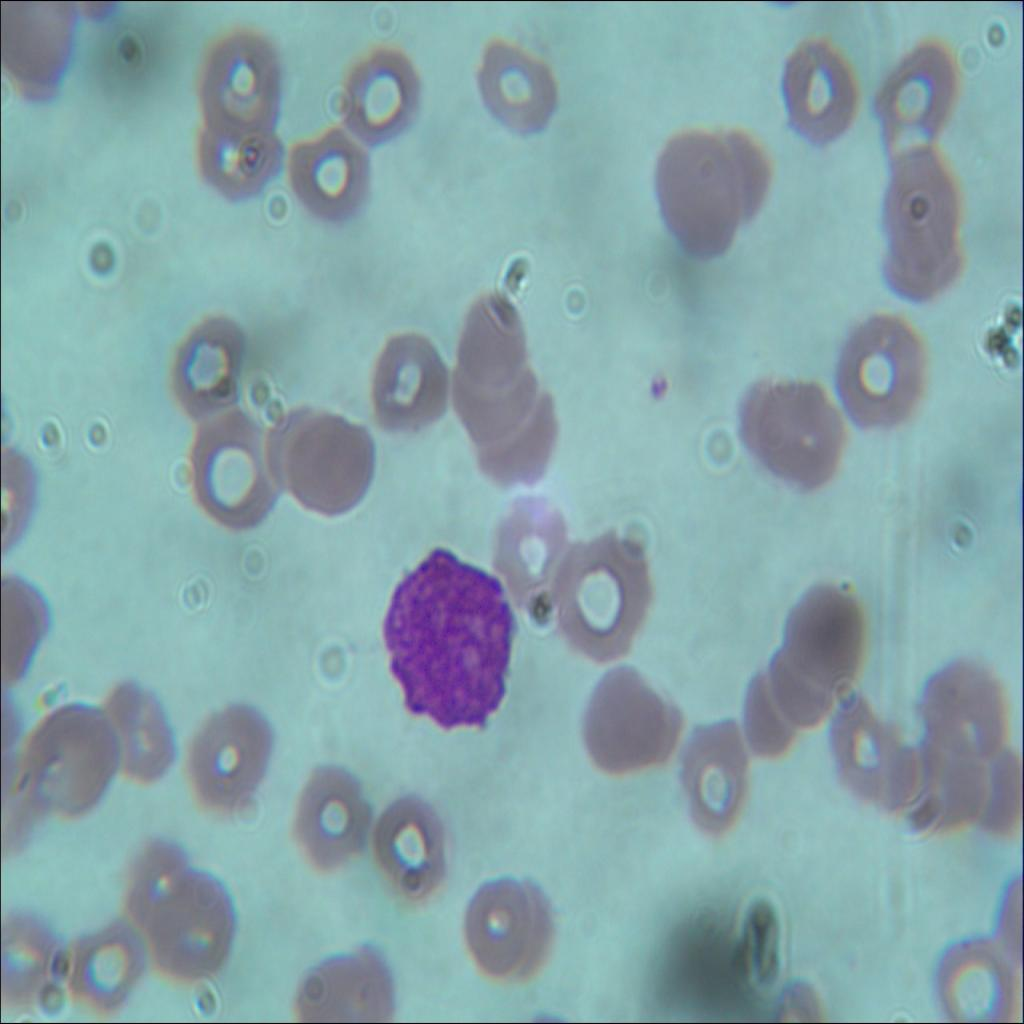Eritrosit: (260, 398, 374, 520), (835, 308, 935, 434), (736, 378, 849, 488), (583, 654, 673, 788), (651, 132, 739, 265), (556, 522, 646, 652), (28, 696, 121, 820), (866, 32, 961, 150), (678, 694, 756, 836), (910, 655, 1018, 755), (194, 682, 270, 824), (190, 408, 276, 532), (771, 38, 859, 158), (89, 674, 178, 792), (439, 354, 546, 450), (201, 21, 284, 138), (455, 871, 544, 978), (286, 124, 371, 234), (696, 112, 770, 238), (286, 752, 364, 870), (473, 37, 559, 144), (196, 100, 283, 204), (926, 931, 1024, 1023), (0, 0, 88, 100), (878, 145, 958, 254), (478, 388, 564, 489), (495, 485, 569, 602), (150, 874, 234, 977), (361, 332, 450, 429), (166, 308, 242, 418), (295, 924, 379, 1023), (908, 724, 982, 835), (338, 52, 420, 150), (758, 638, 838, 734), (454, 288, 528, 390), (879, 221, 969, 304), (832, 694, 902, 799), (126, 837, 198, 939), (68, 915, 146, 1004), (962, 714, 1023, 824), (784, 585, 858, 675), (735, 658, 794, 764), (382, 801, 446, 892), (0, 912, 59, 1008)
Limfoblast: (378, 548, 524, 735)
Platelet: (640, 362, 682, 412)
